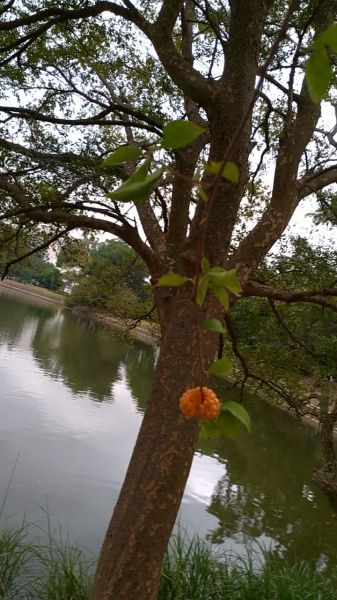eggs: (173, 380, 223, 432)
